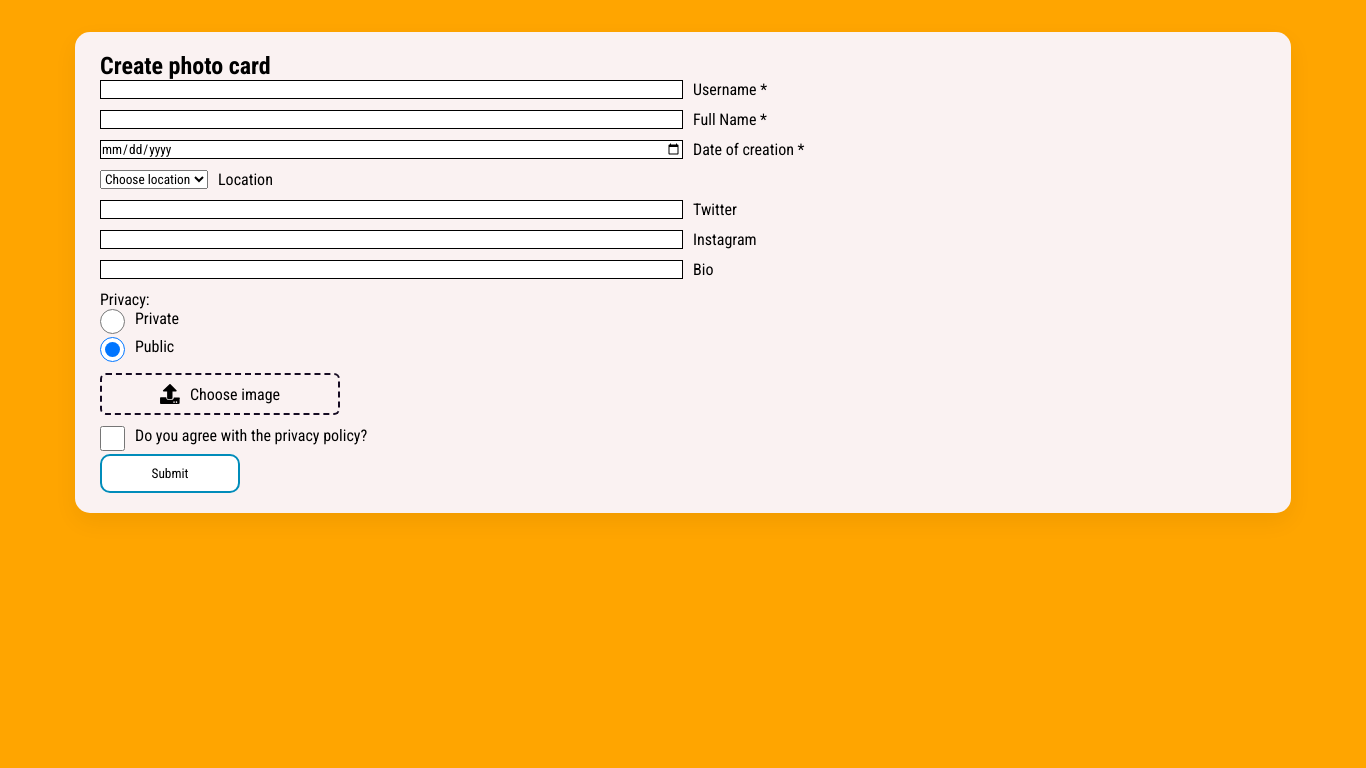
Forms component tests › Submit form with errors
Click the button "Submit" at x=170, y=474, box [100,454,240,493]
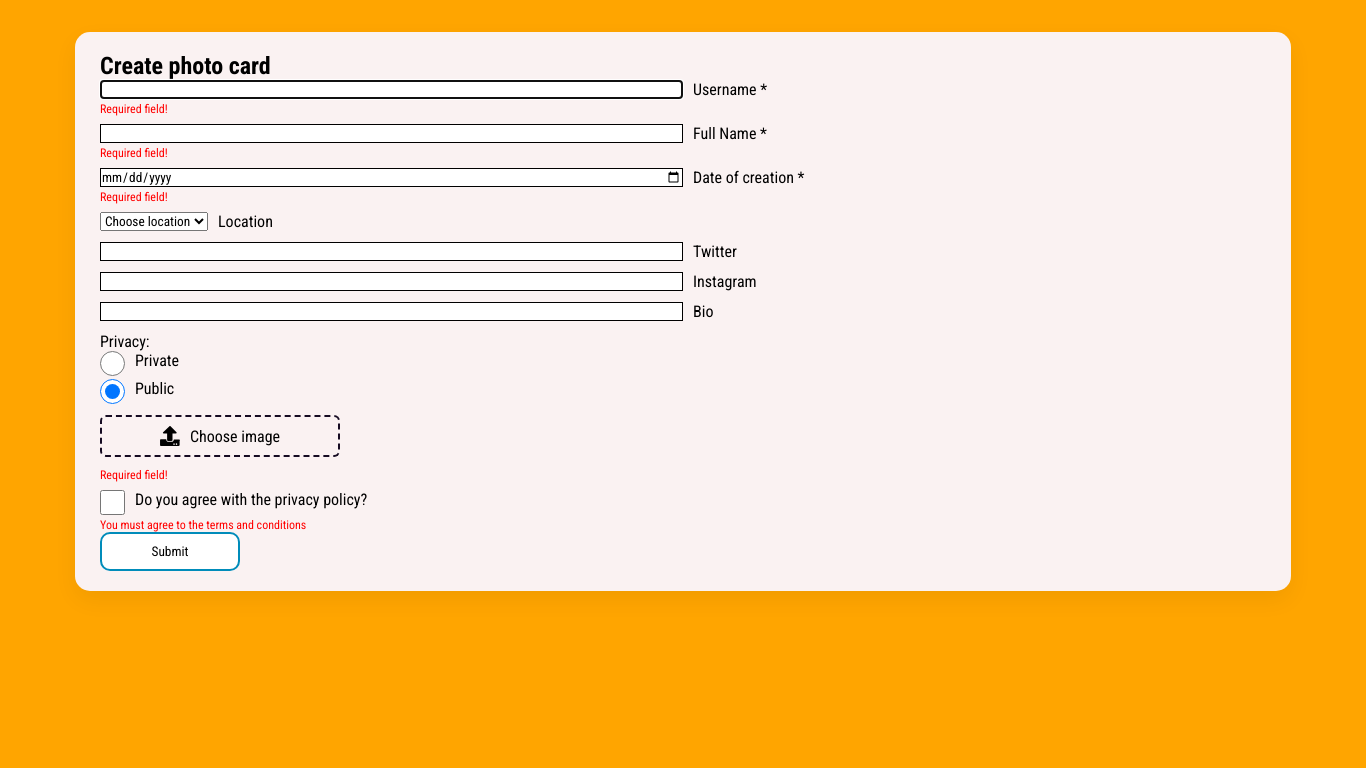
Expected: the number of messages is 5, [100,102,168,116]; [100,146,168,160]; [100,190,168,204]; [100,468,168,482]; [100,518,306,532]
